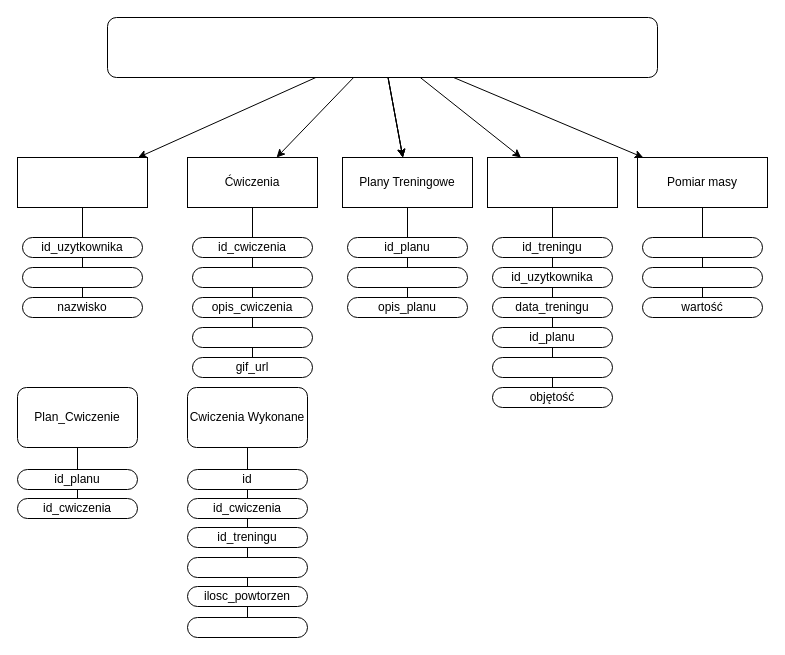
Some shapes in this 785 by 655 pixel diagram are drawn without their labels. The box of each missing label's shape, as (x1, y1, x2, y2) in pixels:
czas_trwania: (492, 356, 612, 378)
data: (642, 266, 762, 288)
grupa_miesniowa: (192, 326, 312, 348)
Gym Tracker App: (106, 16, 658, 78)
id_użytkownika: (642, 236, 762, 258)
imię: (22, 266, 142, 288)
nazwa_cwiczenia: (192, 266, 312, 288)
nazwa_planu: (346, 266, 468, 288)
seria: (186, 556, 308, 578)
Treningi Wykonane: (486, 156, 618, 208)
Użytkownik: (16, 156, 148, 208)
waga: (186, 616, 308, 638)
